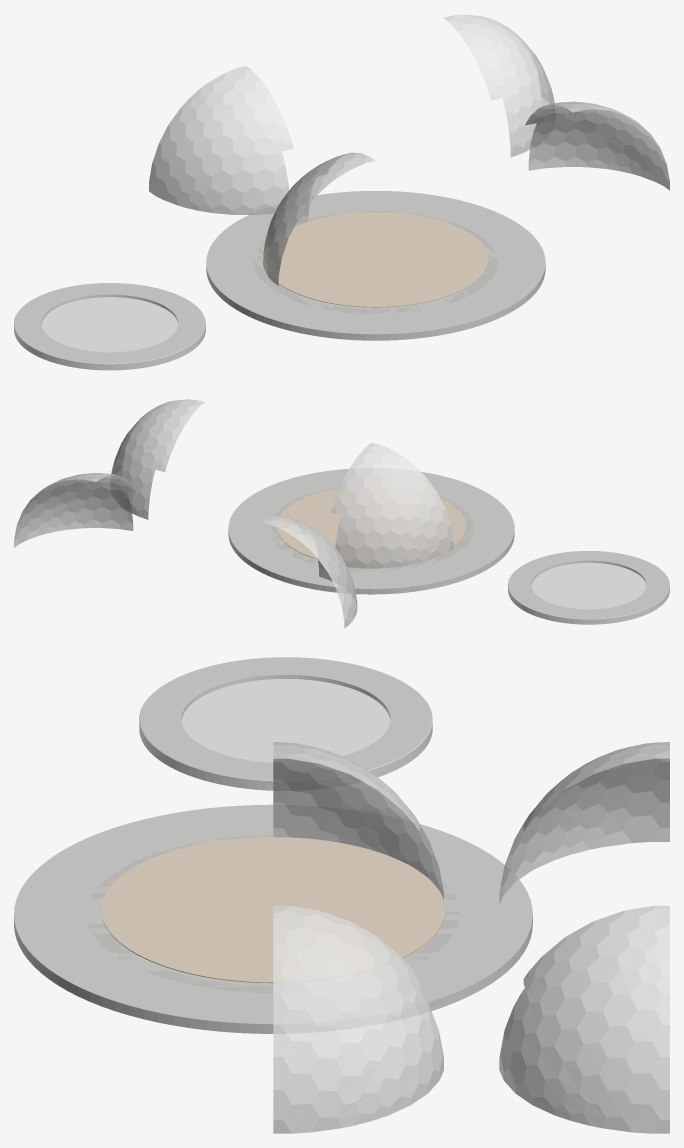
Rendered from basic-geodome.glb.
The picture shows the model from 3 angles, top to bottom: view 1: azimuth 30°, elevation 25°; view 2: azimuth 150°, elevation 25°; view 3: azimuth 270°, elevation 25°; orthographic projection. The views are drawn at different scales.
Visible parts, largest first — view 1: Node1704, Node97, Node197, Node392, Node490, Node393, Node196; view 2: Node1704, Node97, Node197, Node392, Node490, Node393, Node196; view 3: Node1704, Node97, Node197, Node392, Node490, Node393, Node196.
Boxes of the visible parts, x1,y1,x2,y2 form: Node1704: (264,212,488,306); Node97: (206,191,545,333); Node197: (206,191,545,334); Node392: (14,295,205,369); Node490: (14,283,205,363); Node393: (41,297,178,352); Node196: (254,211,497,313); Node1704: (276,486,466,565); Node97: (228,469,514,588); Node197: (228,468,514,588); Node392: (508,561,669,623); Node490: (508,551,669,618); Node393: (531,562,646,609); Node196: (269,485,474,571); Node1704: (101,837,445,982); Node97: (14,805,532,1023); Node197: (14,804,532,1023); Node392: (140,675,431,789); Node490: (139,657,432,780); Node393: (181,679,390,762); Node196: (88,835,459,992).
Size of the model in its own units: 1029 by 167 by 598.
